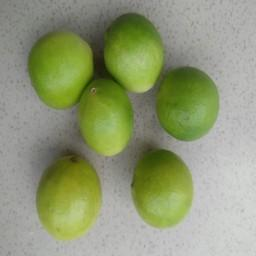Good_lime: (32, 152, 104, 244), (130, 148, 196, 232), (28, 28, 93, 112), (156, 67, 221, 144), (104, 10, 164, 92), (78, 76, 136, 156)
